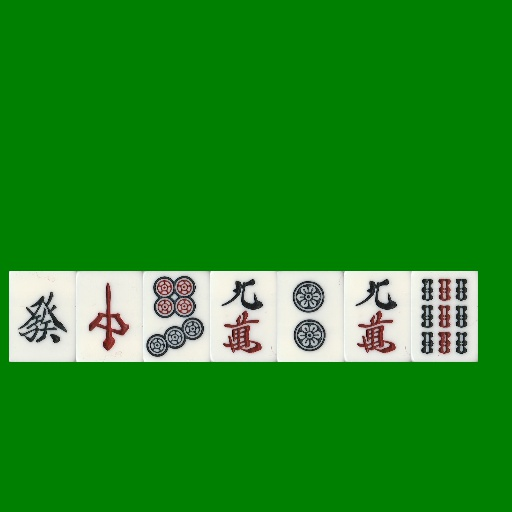2p: (277, 271, 344, 362)
7p: (143, 271, 210, 362)
9m: (210, 271, 277, 362), (344, 271, 411, 362)
9s: (411, 271, 478, 362)
hatsu: (9, 271, 76, 362)
tyun: (76, 271, 143, 362)
